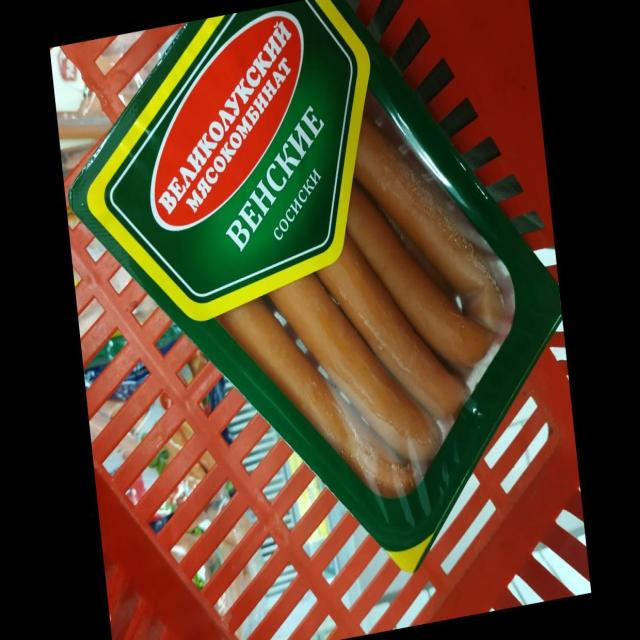Sausages: (69, 0, 562, 572)
